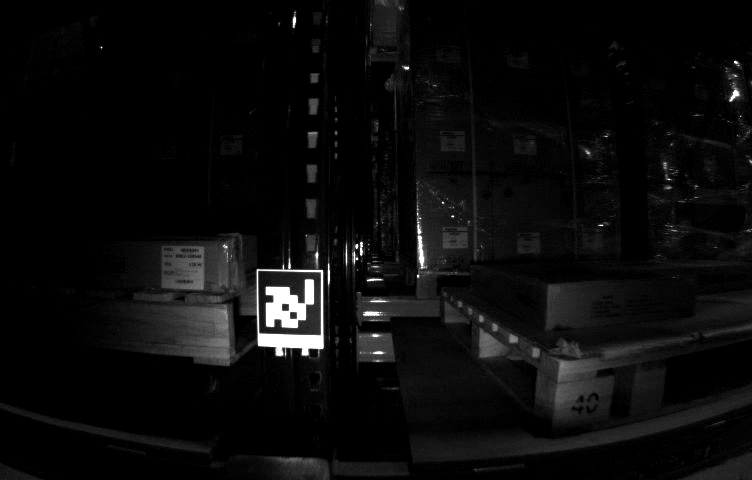True Barcode: (165, 245, 204, 287)
